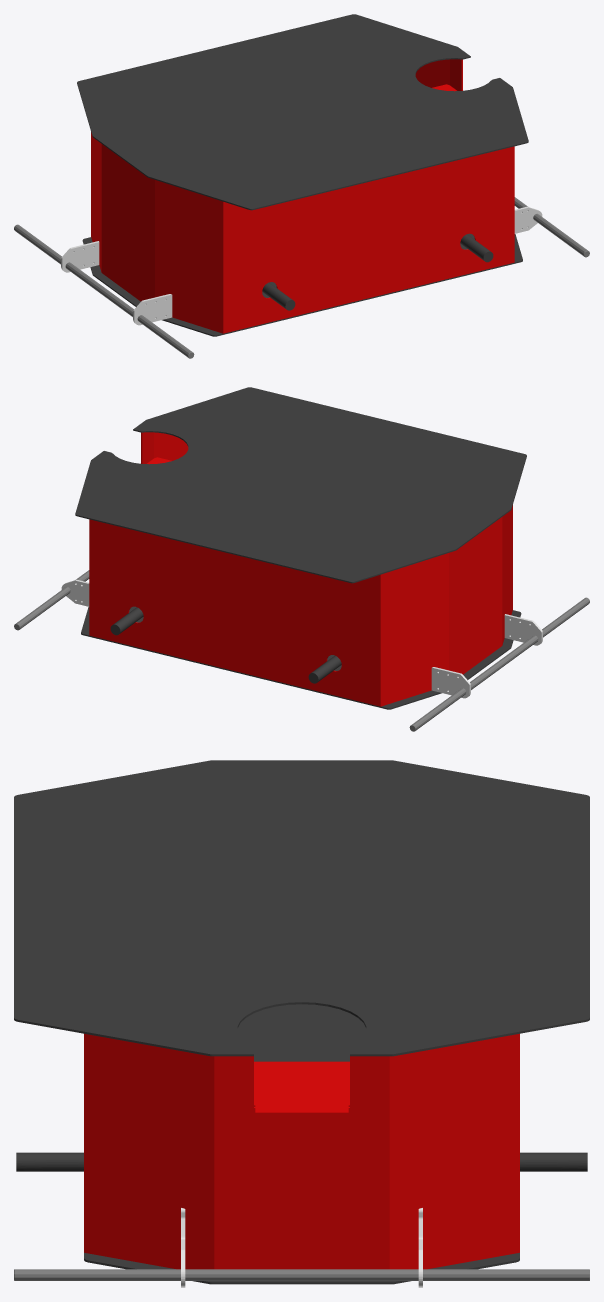
The model's file is Delta_XL_V6.dae.
3 renders of one model, top to bottom at view 1: azimuth 30°, elevation 25°; view 2: azimuth 150°, elevation 25°; view 3: azimuth 270°, elevation 25°, orthographic. The views are drawn at different scales.
Visible parts, largest first — view 1: Top Plate, Cabinet, Bottom Plate, Bumper Rod.001, Back Bumper.001, Back Bumper, Bumper Rod, Front Bumper.001; view 2: Top Plate, Cabinet, Bottom Plate, Bumper Rod.001, Back Bumper, Back Bumper.001, Bumper Rod, Front Bumper; view 3: Top Plate, Cabinet, Bottom Plate, Bumper Rod, Axle.002, Axle.
Part boxes in pixels (x1=…): Top Plate: x1=77, y1=14, x2=528, y2=210; Cabinet: x1=91, y1=59, x2=514, y2=333; Bottom Plate: x1=82, y1=233, x2=522, y2=336; Bumper Rod.001: x1=14, y1=224, x2=194, y2=358; Back Bumper.001: x1=133, y1=294, x2=172, y2=325; Back Bumper: x1=61, y1=241, x2=99, y2=272; Bumper Rod: x1=514, y1=197, x2=589, y2=257; Front Bumper.001: x1=514, y1=206, x2=542, y2=233; Top Plate: x1=75, y1=387, x2=526, y2=583; Cabinet: x1=89, y1=432, x2=512, y2=706; Bottom Plate: x1=81, y1=606, x2=521, y2=709; Bumper Rod.001: x1=409, y1=597, x2=589, y2=731; Back Bumper: x1=431, y1=667, x2=470, y2=698; Back Bumper.001: x1=504, y1=614, x2=542, y2=645; Bumper Rod: x1=14, y1=570, x2=89, y2=630; Front Bumper: x1=61, y1=579, x2=89, y2=606; Top Plate: x1=14, y1=760, x2=589, y2=1056; Cabinet: x1=84, y1=1033, x2=519, y2=1269; Bottom Plate: x1=84, y1=1004, x2=519, y2=1284; Bumper Rod: x1=14, y1=1269, x2=589, y2=1280; Axle.002: x1=16, y1=1152, x2=83, y2=1171; Axle: x1=520, y1=1152, x2=587, y2=1171.
Bounding box in the file's own units: 1.03 × 0.76 × 0.335.
